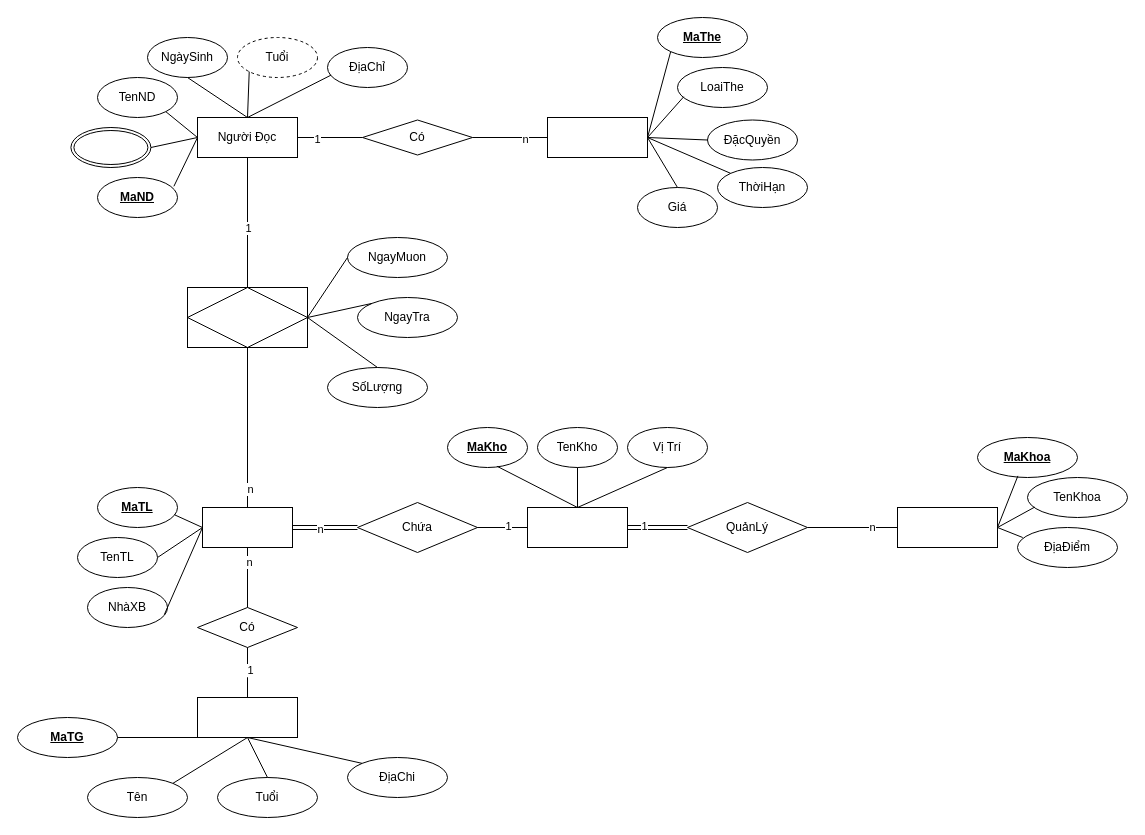
Image size: 1145x835. Some labels were removed from this diagram. Here are the shapes that lost their labels. From the top down, the box of each, then its label:
(70, 126, 151, 168): SĐT
(546, 116, 648, 158): ThẻTV
(186, 286, 308, 348): MượnTL
(202, 506, 292, 548): Tài Liệu
(526, 506, 628, 548): Kho
(896, 506, 998, 548): KhoaQL
(196, 696, 298, 738): TácGiả
